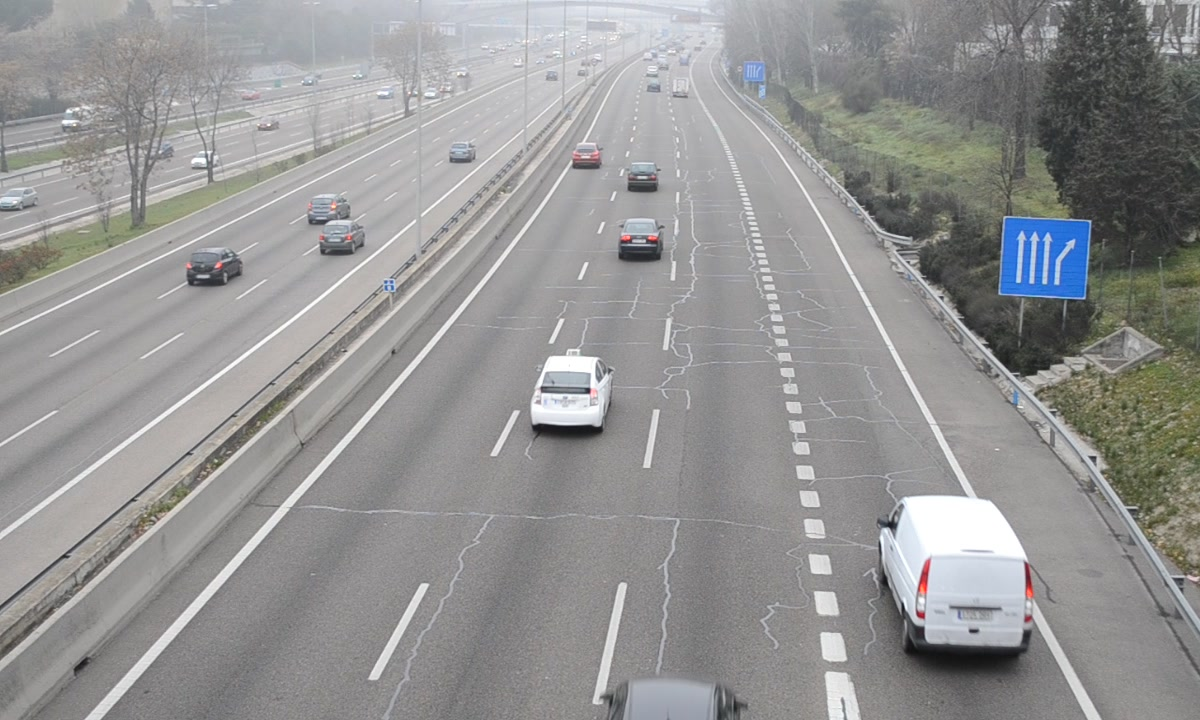car: (529, 357, 610, 429), (619, 217, 663, 258), (626, 160, 660, 192), (571, 141, 600, 167)
van: (879, 495, 1034, 655)
